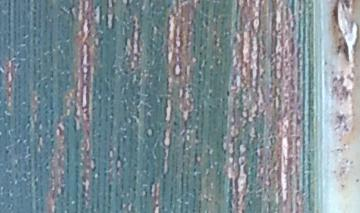tarspot: (225, 89, 232, 98)
